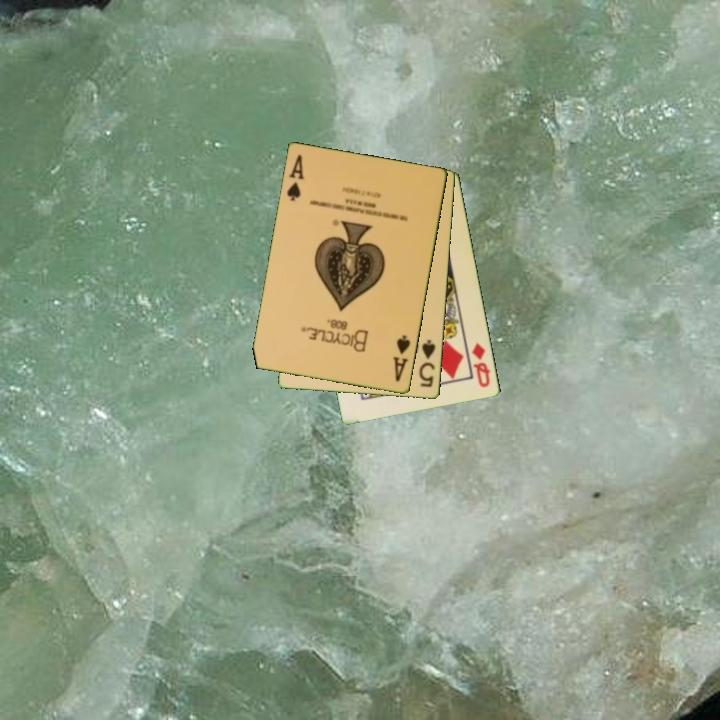5s: (416, 336, 439, 390)
As: (389, 332, 413, 385), (284, 151, 307, 204)
Qd: (469, 339, 493, 391)
